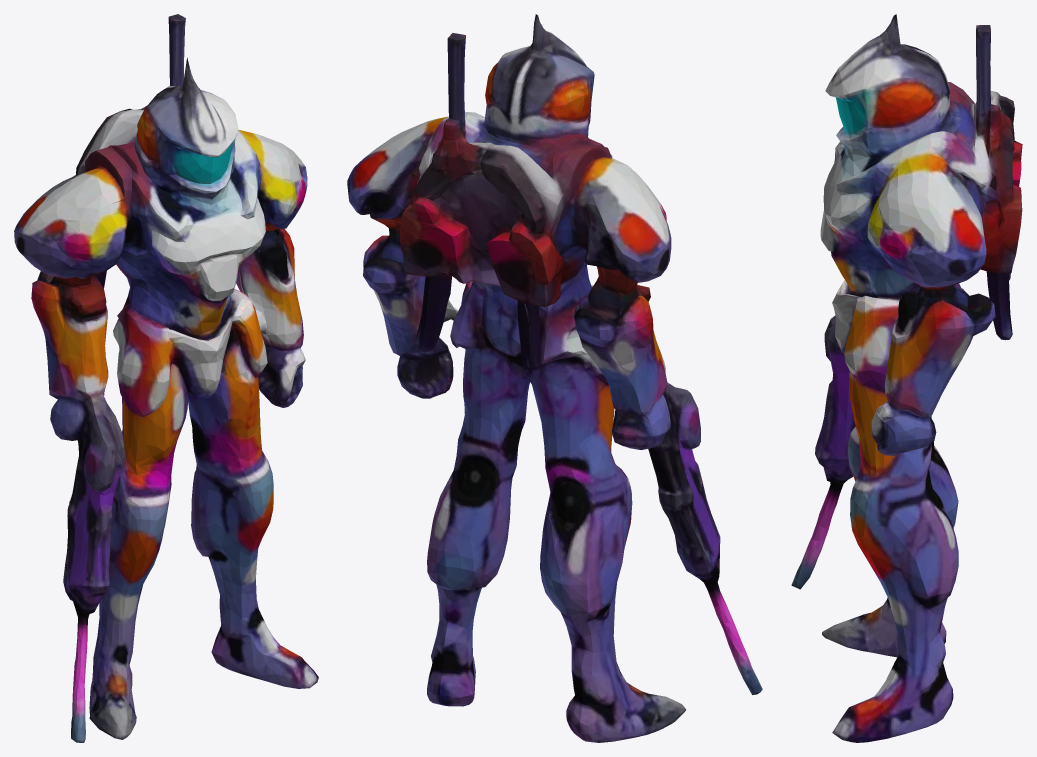
File: anime_future_warrior.glb
3 renders of one model, left to right at view 1: azimuth 30°, elevation 25°; view 2: azimuth 150°, elevation 25°; view 3: azimuth 270°, elevation 25°, orthographic. The views are drawn at different scales.
Parts seen in each view (by area): view 1: geometry_0; view 2: geometry_0; view 3: geometry_0.
Part boxes in pixels (<box>): geometry_0: <box>14,14,318,742</box>; geometry_0: <box>347,14,762,742</box>; geometry_0: <box>791,14,1022,742</box>.
Bounding box in the file's own units: 0.498 × 1 × 0.3105.
Materials: 1 (1 with a texture image).
